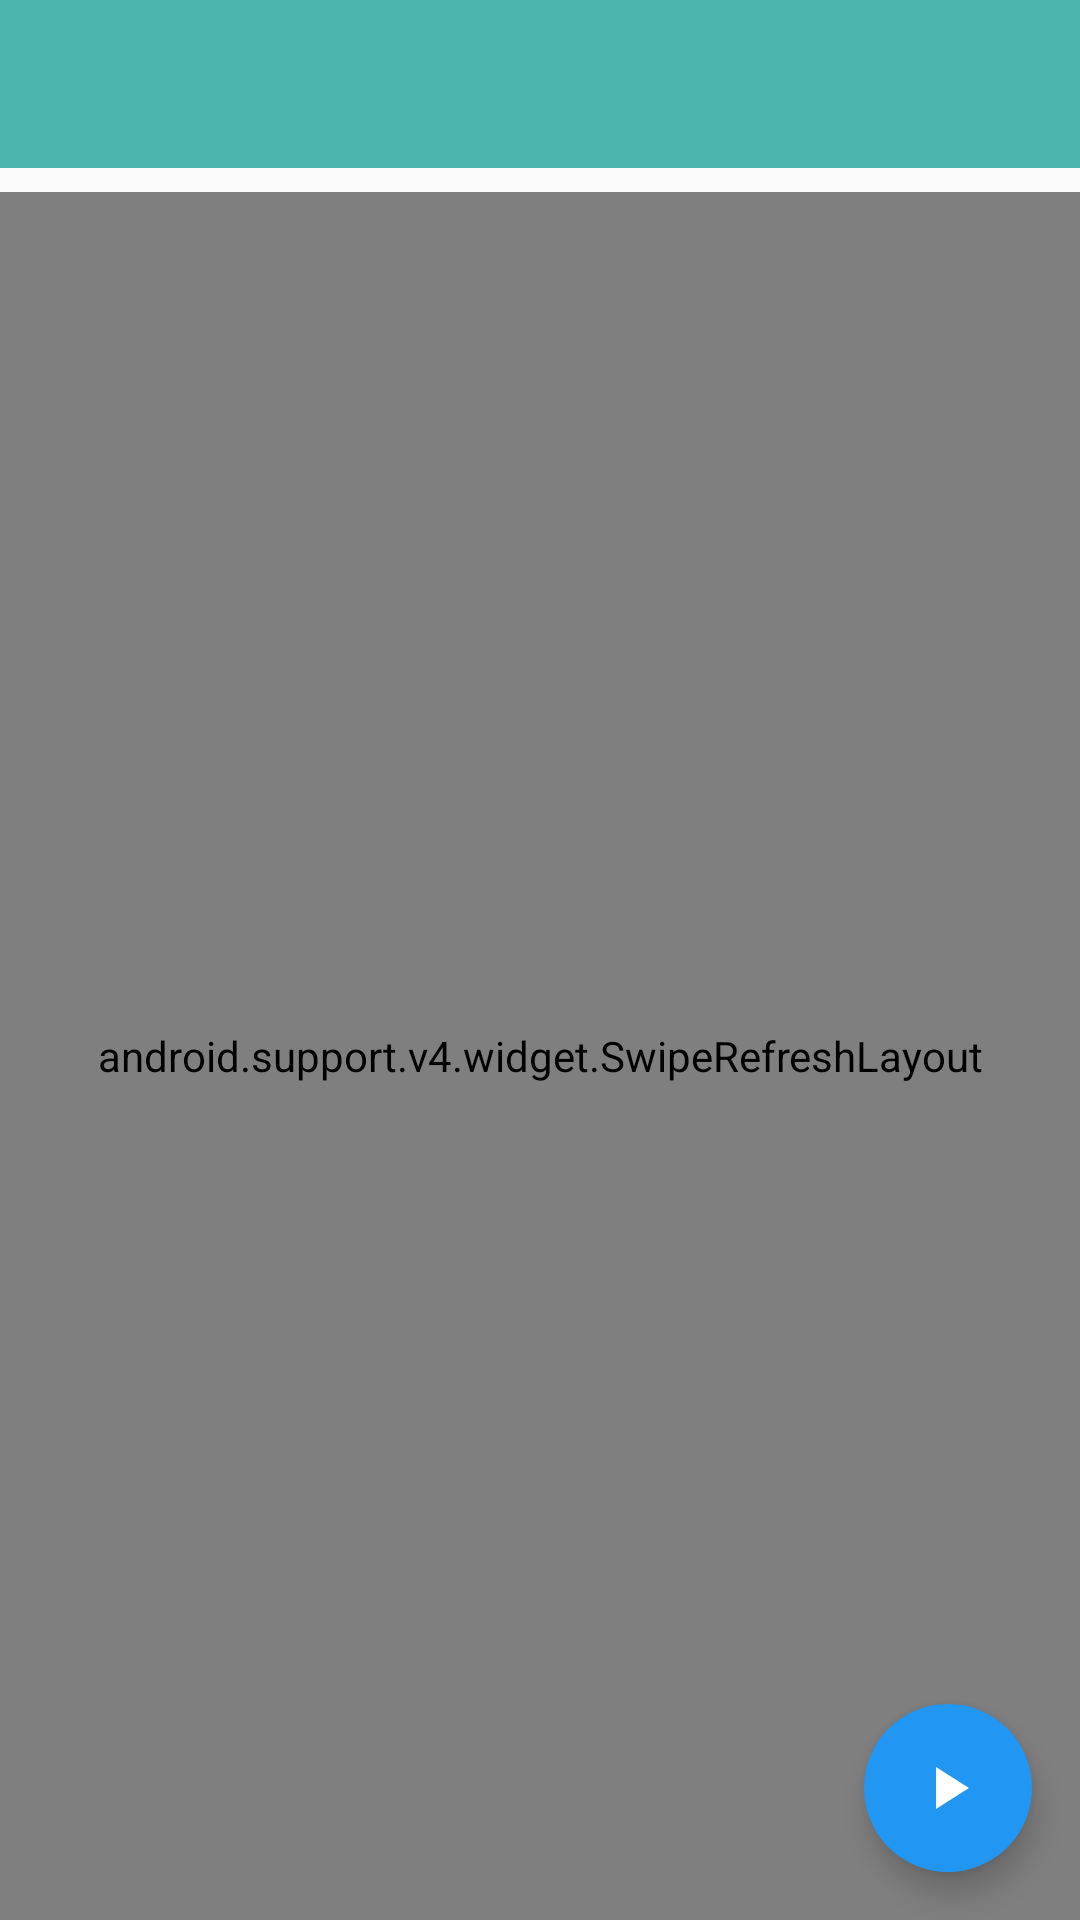

Point at icon controls on the screen. Image size 1080px×1920px, points as (x,y).
play arrow: (948,1788)
